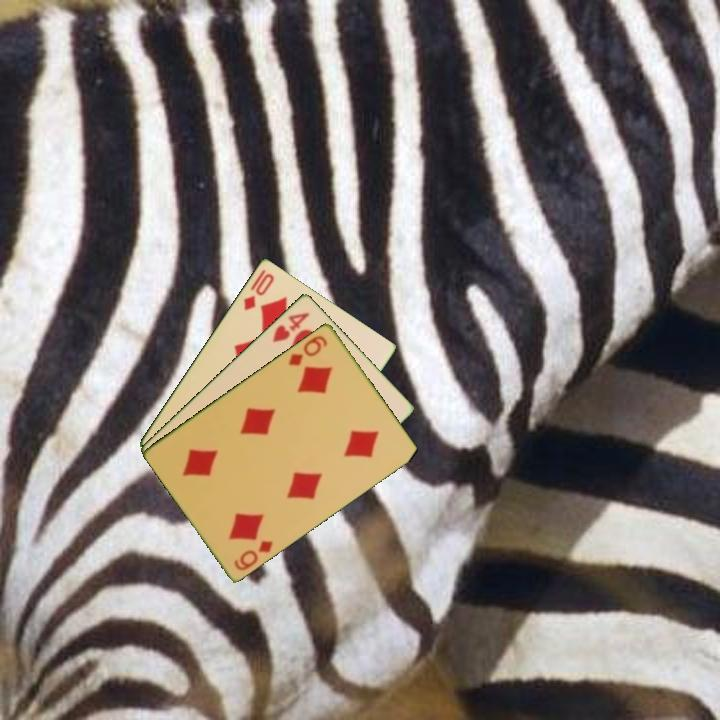10d: (240, 269, 277, 313)
4h: (268, 308, 312, 345)
6d: (284, 331, 330, 369), (230, 536, 276, 573)
